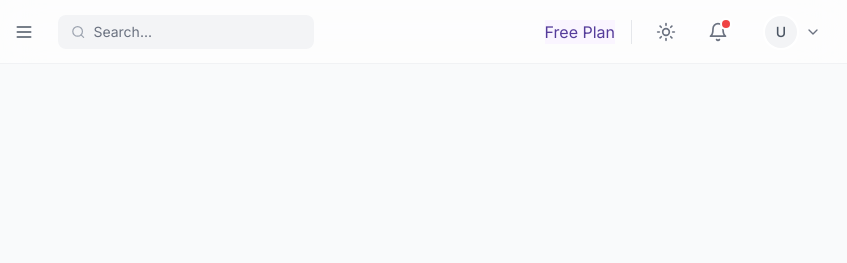
Test case: Header › renders all dropdown menu items
The width and height of the screenshot is (847, 263).
Click the button named "User account menu" at point(795, 32), box [760,10,830,52]
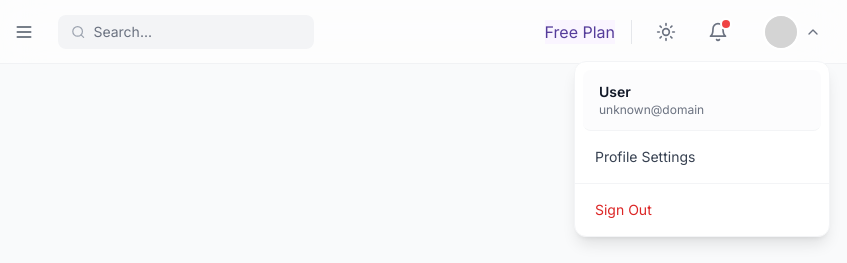
Now the menu item "Profile Settings" is shown, box [595,148,695,164]
Now the menu item "Sign Out" is shown, box [583,192,821,228]
